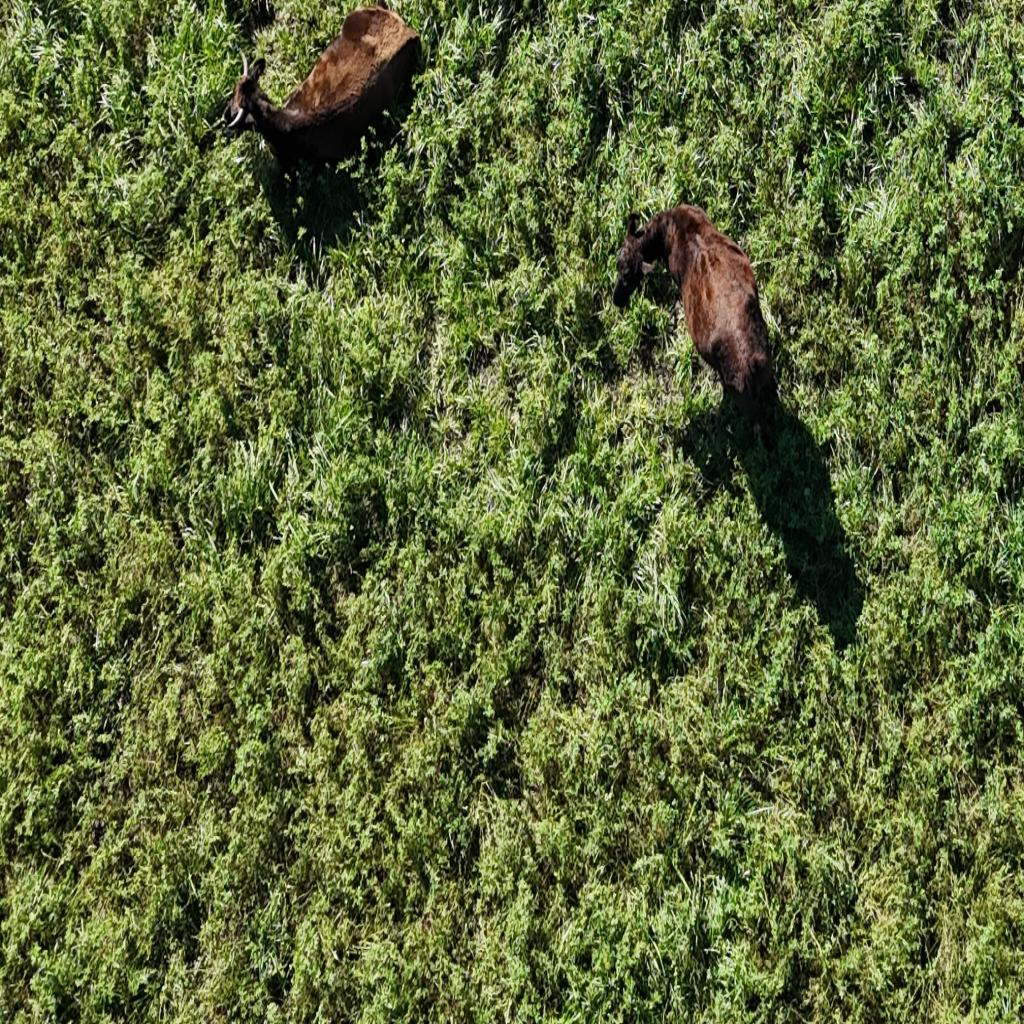cow: (548, 176, 837, 483), (202, 11, 460, 260)
